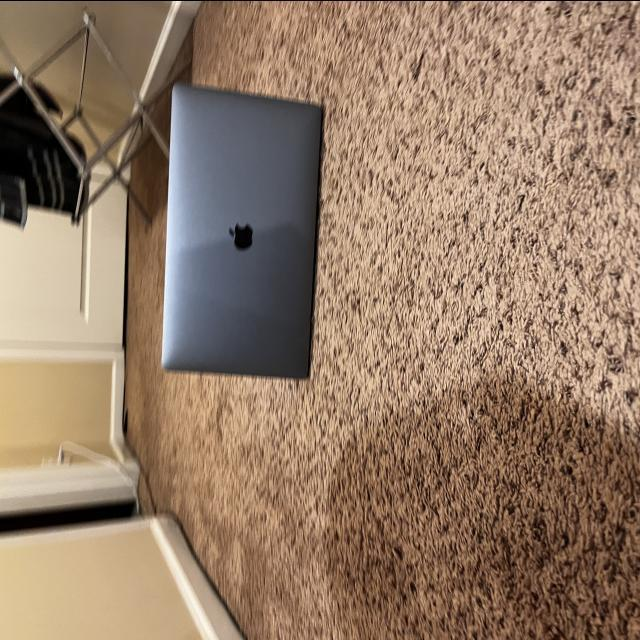laptop: (167, 80, 316, 387)
